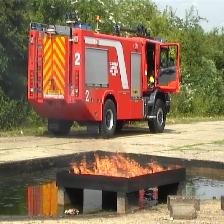fire: (68, 151, 181, 179)
